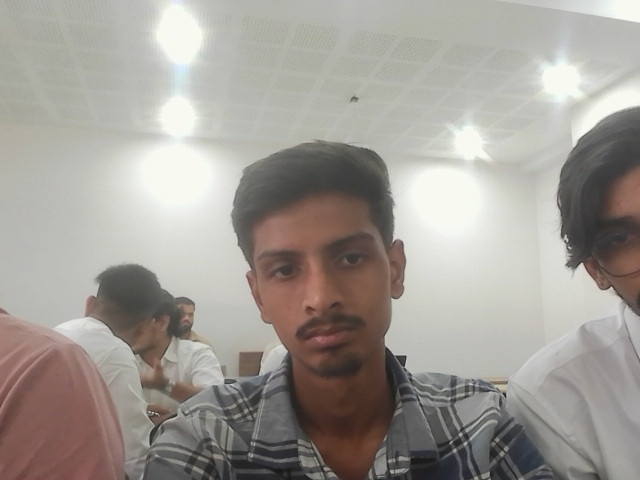light_on: (543, 66, 605, 130), (538, 193, 571, 271), (151, 87, 203, 133), (443, 115, 493, 162), (615, 5, 636, 25)
person: (500, 105, 639, 479), (39, 260, 224, 479)
